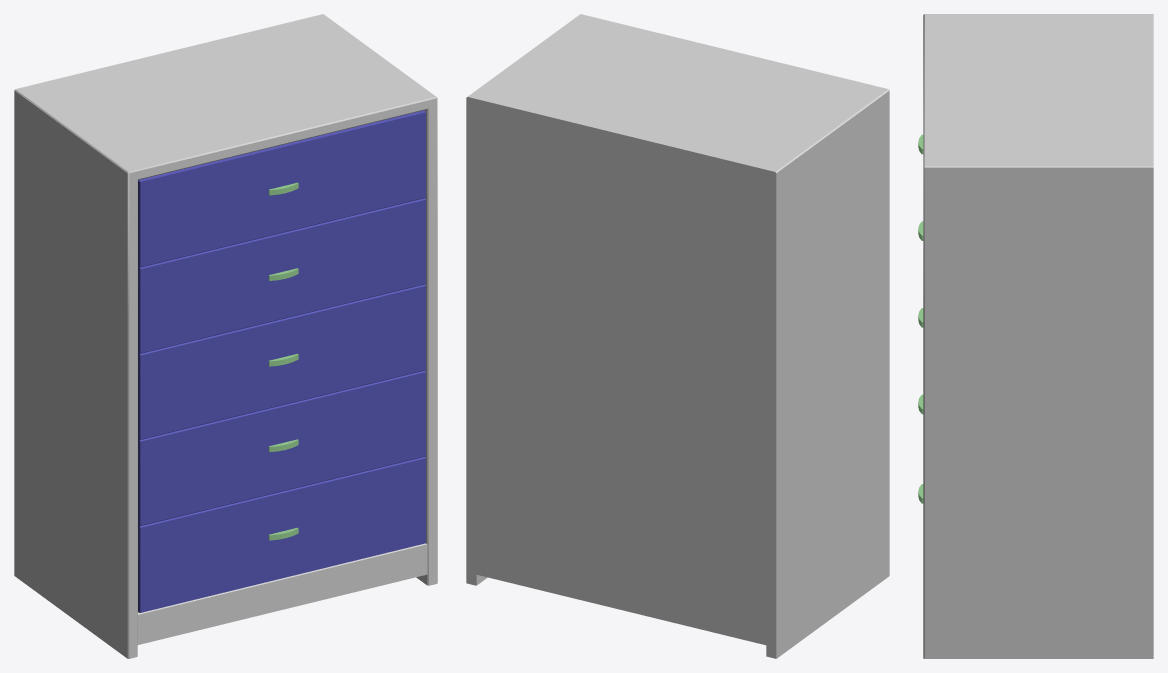
3 views of the same model, side by side, from view 1: azimuth 30°, elevation 25°; view 2: azimuth 150°, elevation 25°; view 3: azimuth 270°, elevation 25° (orthographic).
Visible parts, largest first — view 1: WD8923W; view 2: WD8923W; view 3: WD8923W.
Boxes of the visible parts, x1,y1,x2,y2 form: WD8923W: (14,14,437,658); WD8923W: (466,14,889,658); WD8923W: (918,14,1153,658).
Size of the model in its own units: 60 by 39 by 90.
